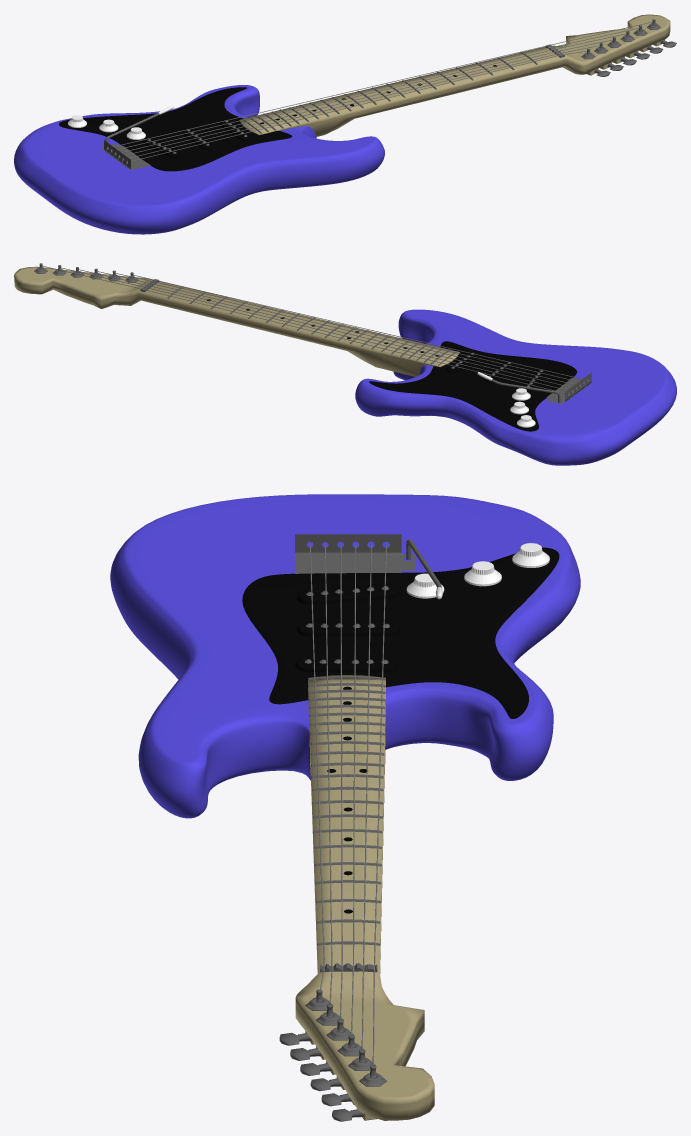
Rendered from guitarra.glb.
3 views of the same model, one above another, from view 1: azimuth 30°, elevation 25°; view 2: azimuth 150°, elevation 25°; view 3: azimuth 270°, elevation 25° (orthographic). The views are drawn at different scales.
Visible parts, largest first — view 1: Guitar, Mastil, Cover, Pastillas, Traste, Clavijas, Vert.005, Vert.001, Vert.002, Vert.003, Puente, Vert.004 (+3 smaller); view 2: Guitar, Mastil, Cover, Traste, Pastillas, Vert.005, Vert.001, Vert.002, Vert.003, Vert.004, Puente, Vert.006 (+2 smaller); view 3: Guitar, Mastil, Cover, Traste, Pastillas, Puente, Volum, Clavijas, Clavijeros, Vert.005, Vert.001, Vert.003.
Part boxes in pixels (bbox=[...]): Guitar: bbox=[14, 85, 384, 234]; Mastil: bbox=[239, 14, 670, 136]; Cover: bbox=[59, 87, 292, 171]; Pastillas: bbox=[142, 119, 252, 157]; Traste: bbox=[241, 52, 537, 133]; Clavijas: bbox=[587, 39, 676, 76]; Vert.005: bbox=[106, 21, 652, 153]; Vert.001: bbox=[110, 27, 639, 155]; Vert.002: bbox=[114, 33, 626, 158]; Vert.003: bbox=[118, 39, 613, 161]; Puente: bbox=[100, 140, 150, 170]; Vert.004: bbox=[122, 45, 600, 164]; Guitar: bbox=[355, 309, 676, 465]; Mastil: bbox=[14, 266, 459, 376]; Cover: bbox=[369, 341, 577, 431]; Traste: bbox=[167, 286, 457, 365]; Pastillas: bbox=[447, 351, 547, 391]; Vert.005: bbox=[42, 265, 570, 399]; Vert.001: bbox=[61, 267, 573, 396]; Vert.002: bbox=[78, 269, 577, 393]; Vert.003: bbox=[97, 271, 581, 391]; Vert.004: bbox=[115, 273, 585, 388]; Puente: bbox=[546, 372, 591, 404]; Vert.006: bbox=[133, 274, 589, 385]; Guitar: bbox=[110, 494, 580, 818]; Mastil: bbox=[295, 675, 434, 1120]; Cover: bbox=[242, 547, 559, 718]; Traste: bbox=[308, 676, 385, 945]; Pastillas: bbox=[295, 583, 399, 672]; Puente: bbox=[295, 534, 415, 573]; Volum: bbox=[406, 543, 549, 598]; Clavijas: bbox=[279, 1031, 376, 1121]; Clavijeros: bbox=[305, 989, 386, 1086]; Vert.005: bbox=[372, 545, 386, 1065]; Vert.001: bbox=[361, 545, 371, 1049]; Vert.003: bbox=[340, 545, 342, 1019].
Bounding box in the file's own units: 1.19 × 0.0846 × 0.3899.
